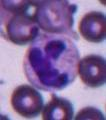N: (23, 34, 80, 92)
